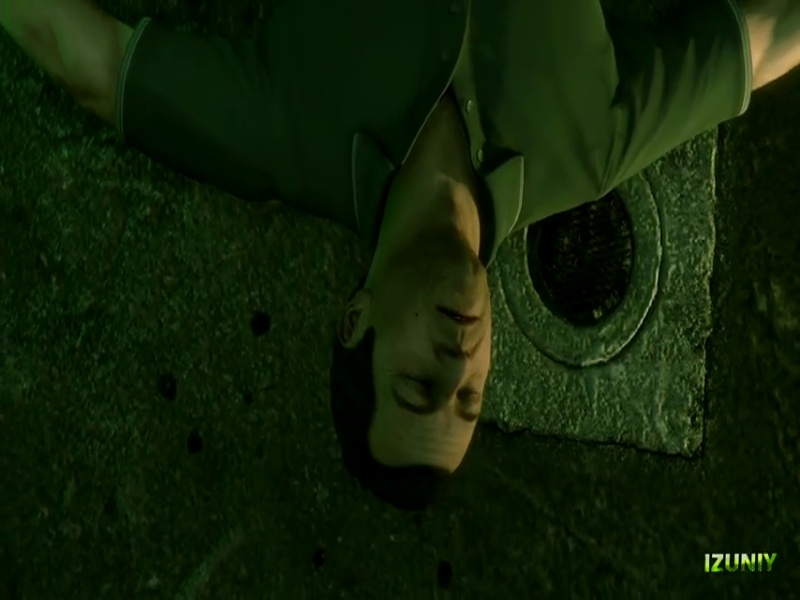human: (4, 0, 796, 544)
